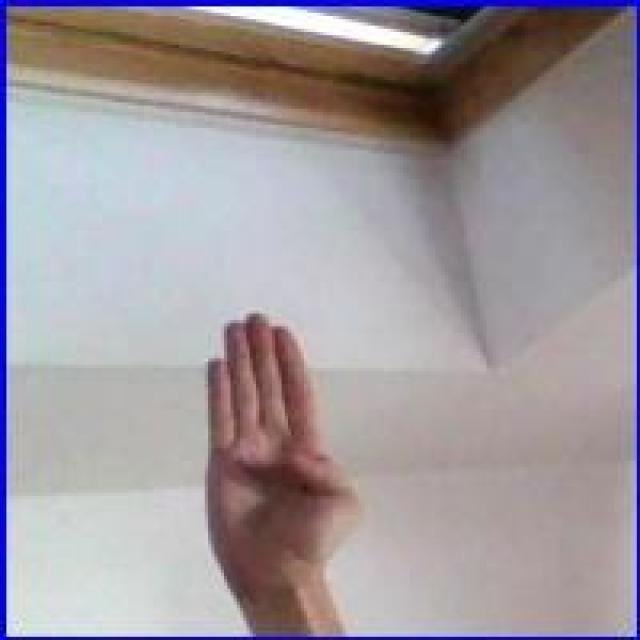B: (202, 302, 371, 590)
